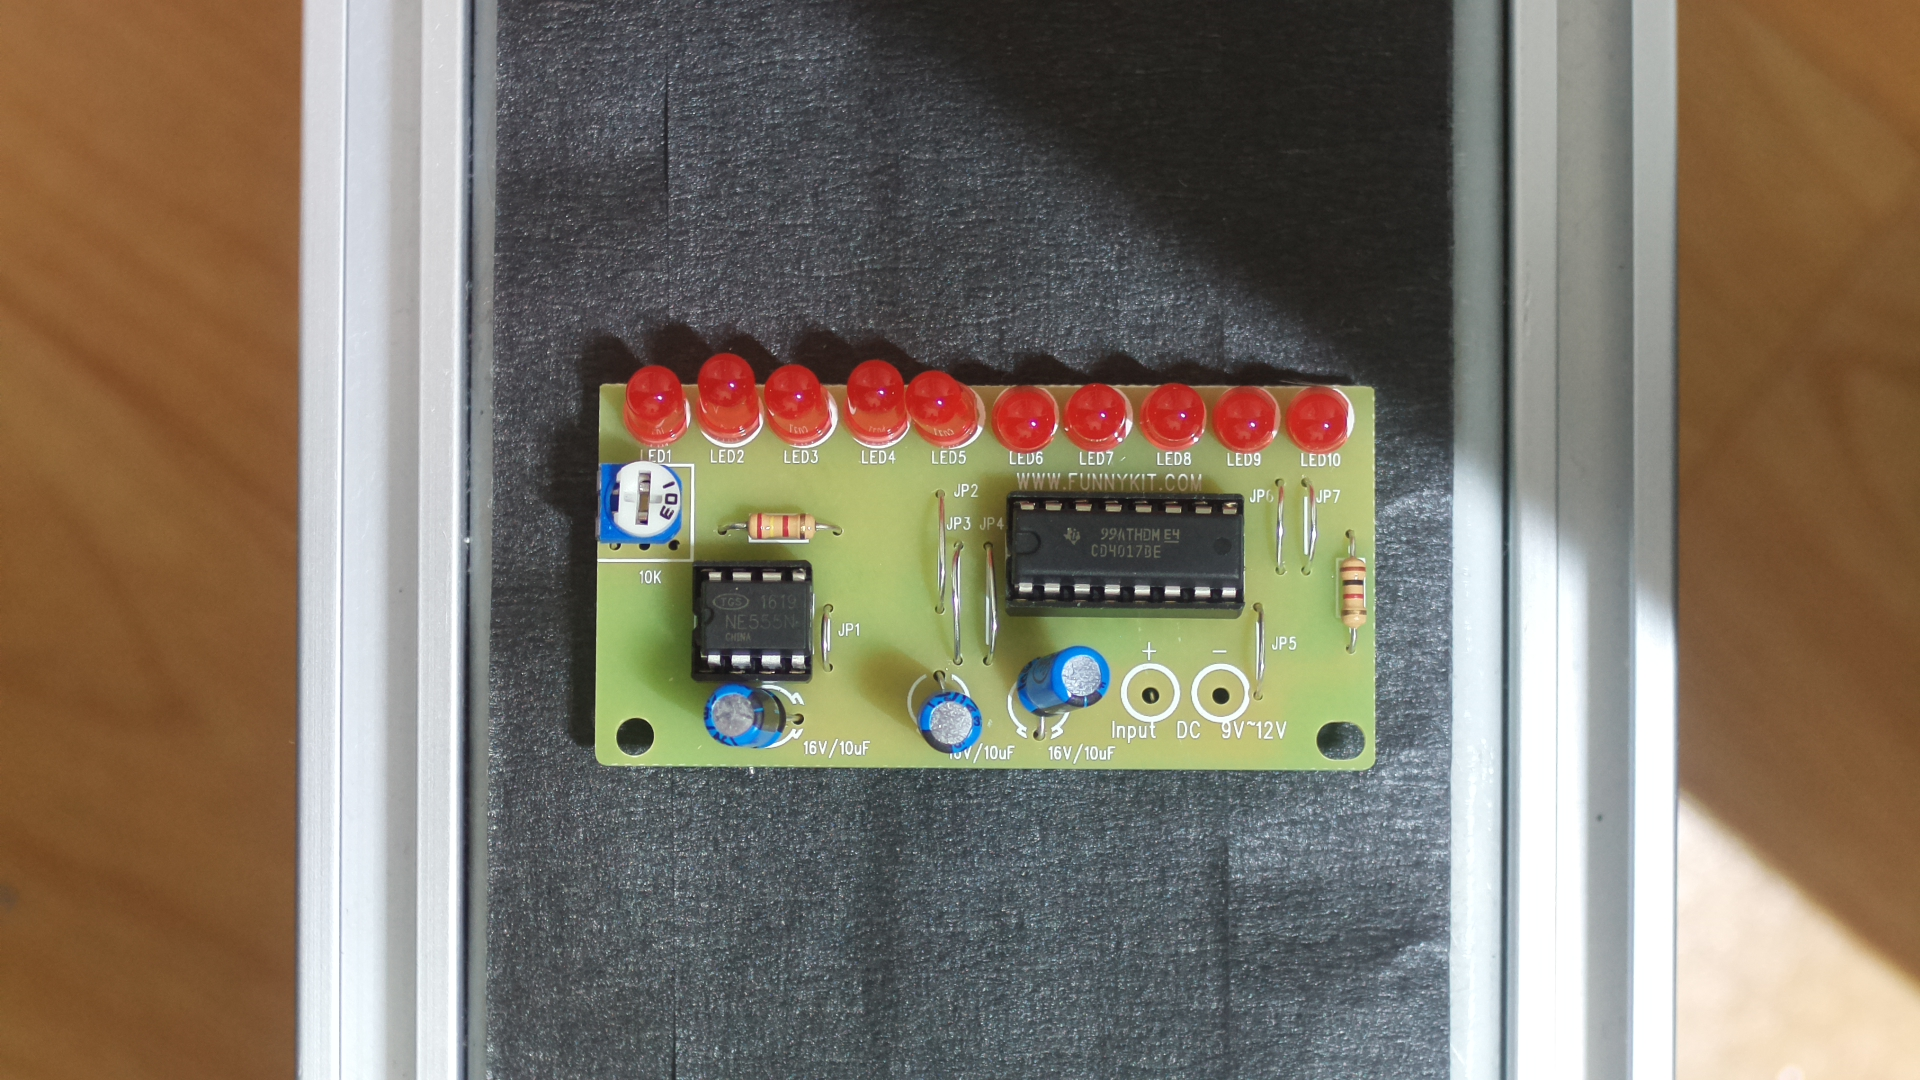B_Normal: (575, 345, 1403, 806)
